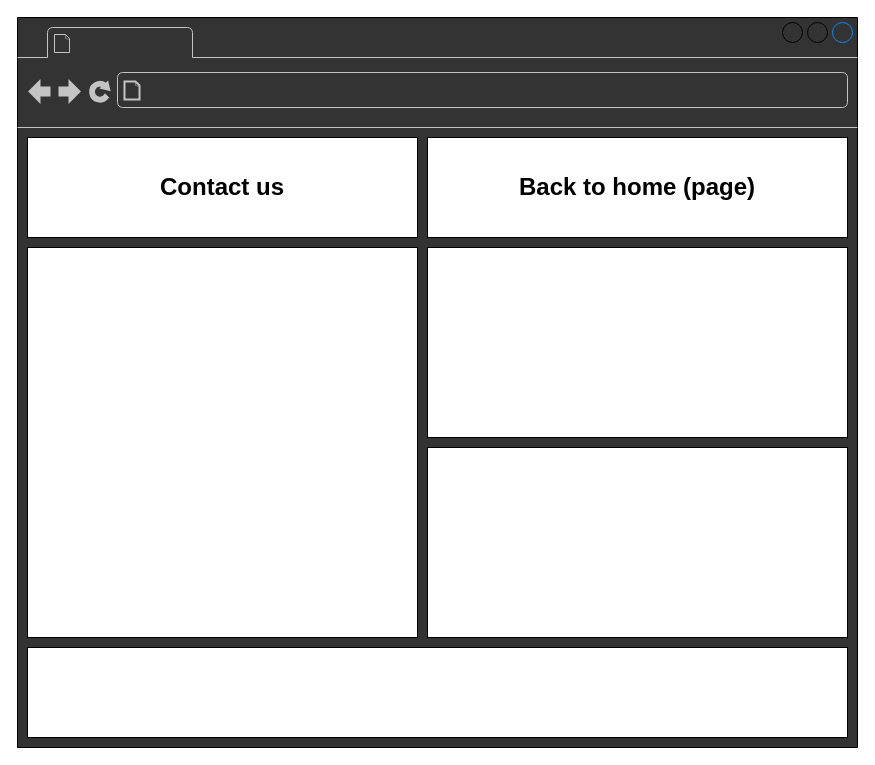
Some shapes in this 875 by 765 pixel diagram are drawn without their labels. Here are the shapes that lost their labels. From the top down, the centre of each, then its label:
[132,42]: Contacts
[272,90]: https://www.ilikechess/contacts.com
